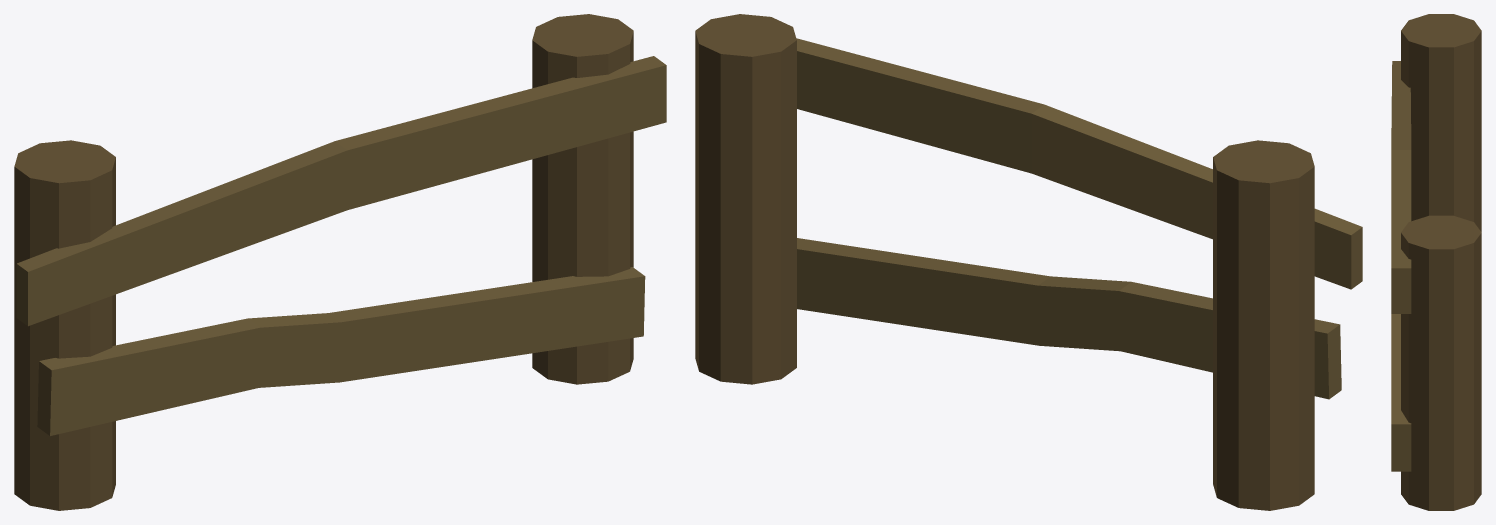
Rendered from vallas_indios.fbx.
3 renders of one model, left to right at view 1: azimuth 30°, elevation 25°; view 2: azimuth 150°, elevation 25°; view 3: azimuth 270°, elevation 25°, orthographic. The views are drawn at different scales.
Parts seen in each view (by area): view 1: Cylinder; view 2: Cylinder; view 3: Cylinder.
Part boxes in pixels (bbox=[...]): Cylinder: bbox=[14, 14, 666, 510]; Cylinder: bbox=[695, 14, 1362, 510]; Cylinder: bbox=[1391, 14, 1481, 510].
Bounding box in the file's own units: 140 × 68.78 × 21.55.
